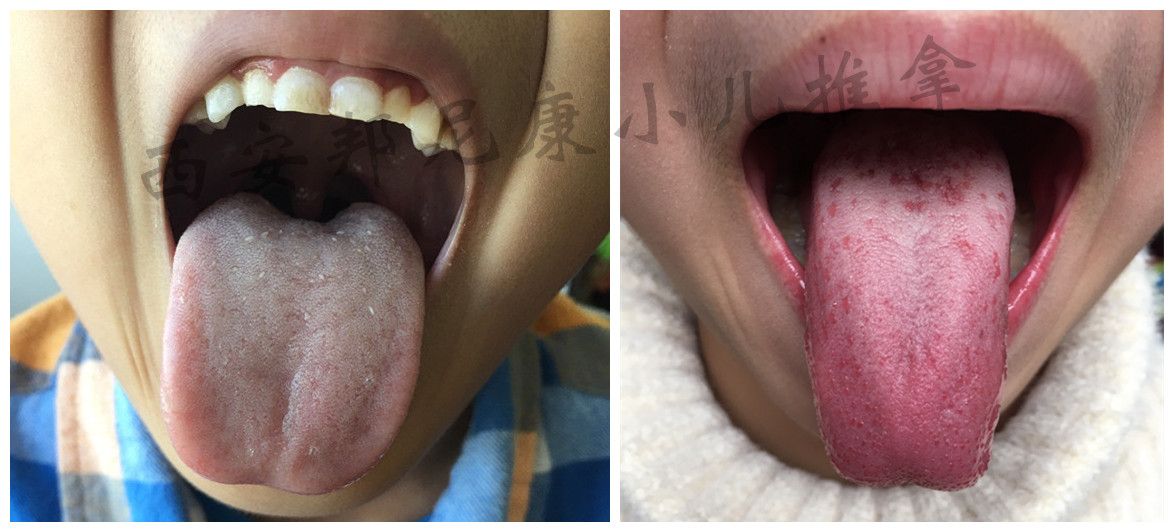baitaishe: (163, 188, 424, 496), (802, 149, 1015, 491)
hongdianshe: (812, 235, 999, 449)
hongshe: (802, 149, 1015, 491)
